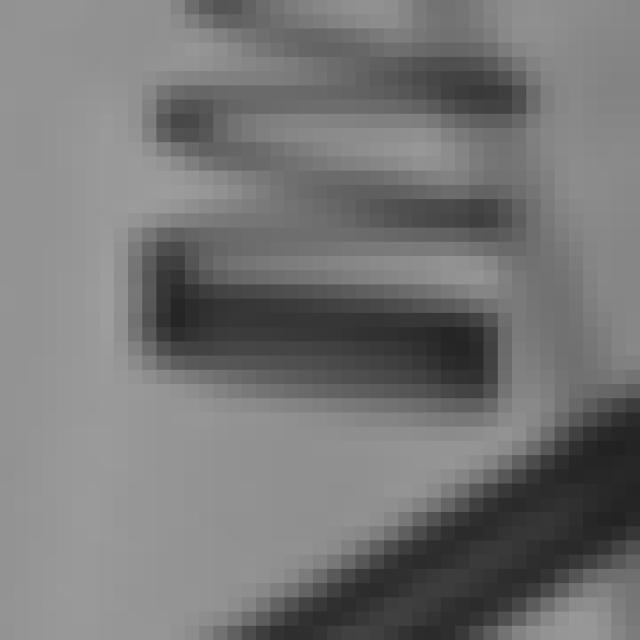GUN: (372, 503, 640, 635)
